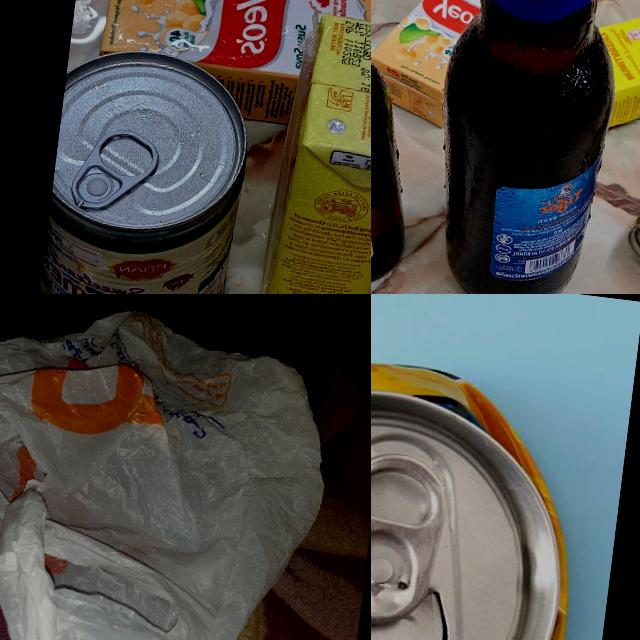aba de lata: (371, 450, 449, 634), (72, 124, 159, 217)
caixinha: (92, 0, 371, 136), (254, 11, 371, 294), (371, 0, 496, 132), (584, 8, 640, 135)
garrafa de vidro: (417, 0, 640, 294), (371, 0, 441, 293)
lata: (371, 331, 592, 640), (32, 40, 256, 294)
sacola plástica: (0, 294, 344, 640)
